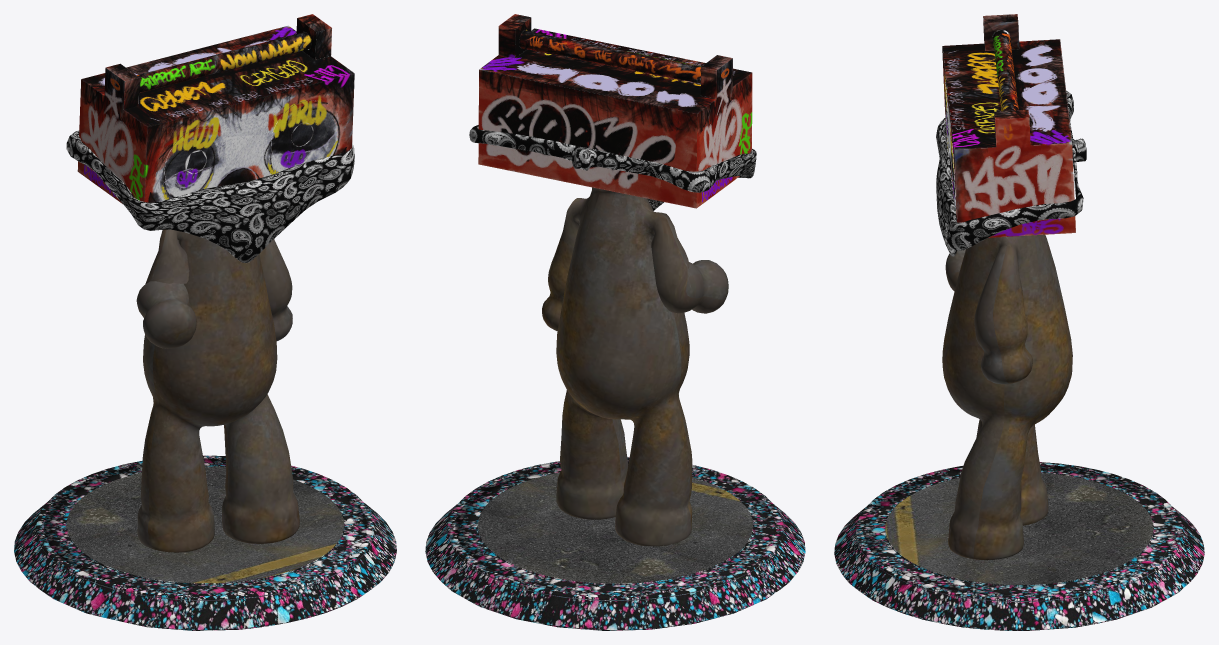
3 views of the same model, side by side, from view 1: azimuth 30°, elevation 25°; view 2: azimuth 150°, elevation 25°; view 3: azimuth 270°, elevation 25° (orthographic). The views are drawn at different scales.
Parts seen in each view (by area): view 1: BBody; view 2: BBody; view 3: BBody.
Part boxes in pixels (left/top/right/bottom): BBody: left=14, top=14, right=396, bottom=630; BBody: left=425, top=14, right=805, bottom=630; BBody: left=834, top=14, right=1204, bottom=630.
Bounding box in the file's own units: 1.45 × 2.12 × 1.45.
5 materials, 5 textured.
